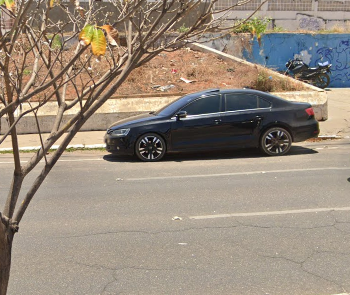car: (102, 86, 322, 167)
